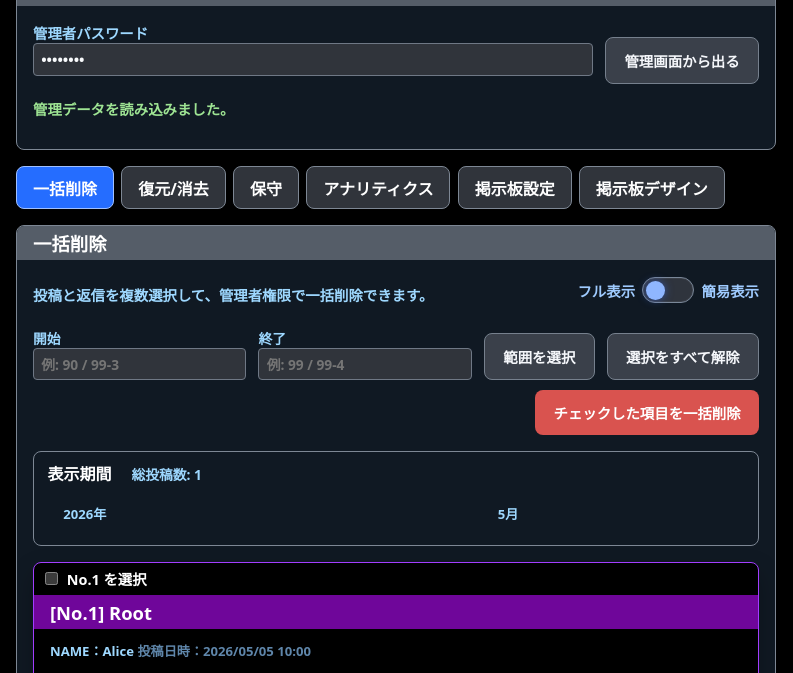
Test case: AdminPage › keeps backup controls in maintenance without exposing local archive import
This screenshot has width=793, height=673.
expect the button "バックアップ" is not shown: met
Click the button "保守": (266, 188) [233,166,299,209]
(page scrolled)
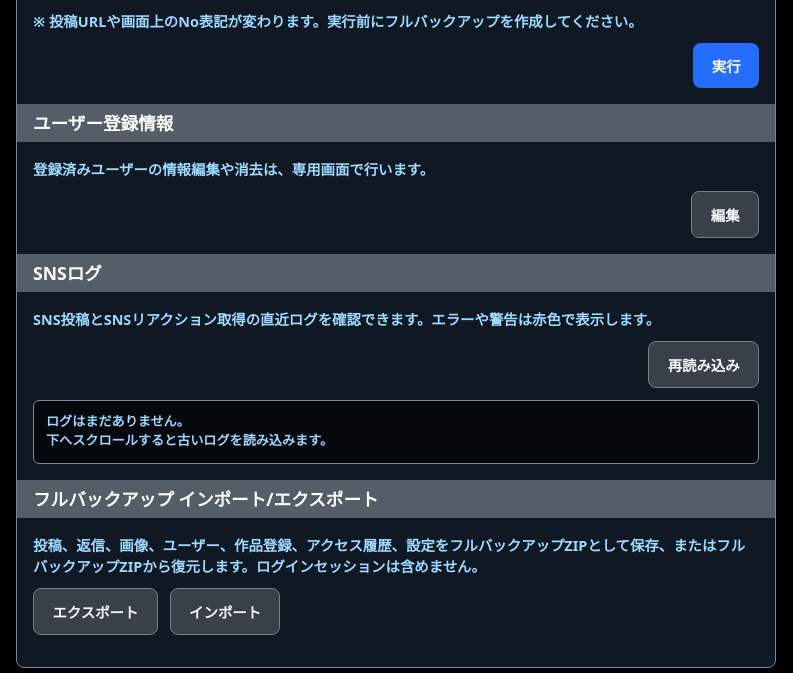
expect the heading "フルバックアップ インポート/エクスポート" is shown: met, box [17,480,775,518]
expect the text "投稿、返信、画像、ユーザー、作品登録、アクセス履歴、設定をフルバックアップZIPとして保存、またはフルバックアップZIPから復元します。ログインセッションは含めません。" is shown: met, box [33,536,745,576]
expect the button "エクスポート" is shown: met, box [33,588,158,635]
